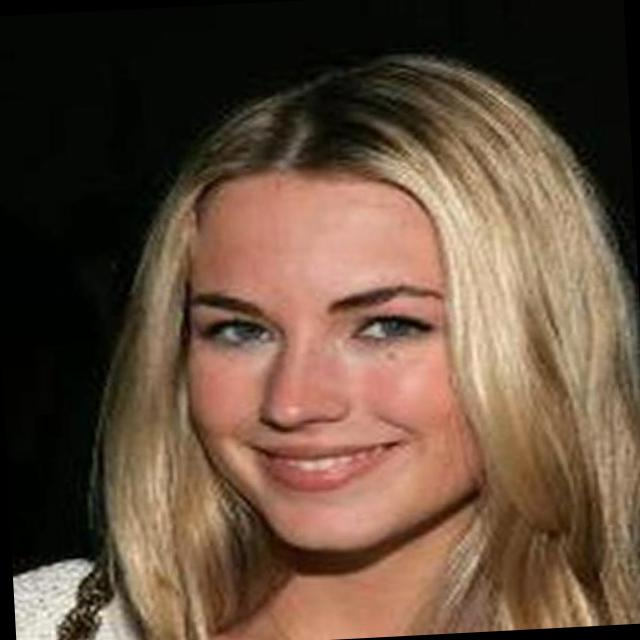bareface: (140, 61, 578, 566)
